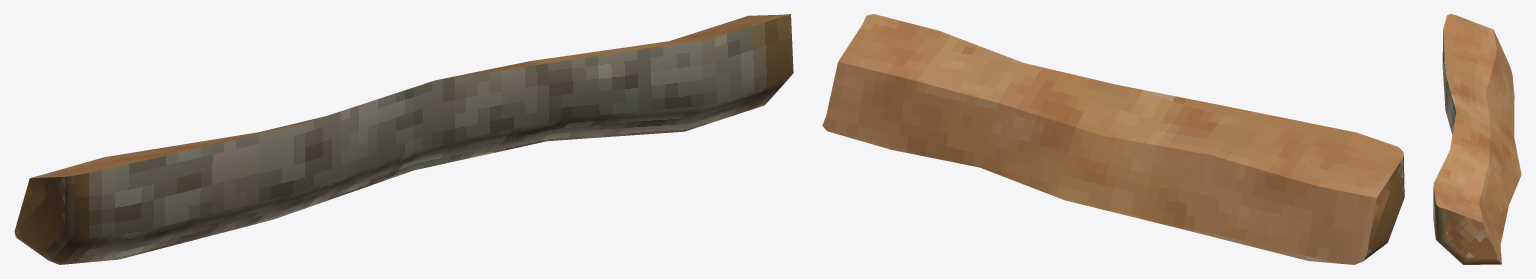
Rendered from woodsplit.fbx.
3 renders of one model, left to right at view 1: azimuth 30°, elevation 25°; view 2: azimuth 150°, elevation 25°; view 3: azimuth 270°, elevation 25°, orthographic. The views are drawn at different scales.
Visible parts, largest first — view 1: woodsplit; view 2: woodsplit; view 3: woodsplit.
Part boxes in pixels (x1,y1,x2,y2): woodsplit: (14, 14, 793, 264); woodsplit: (822, 14, 1404, 264); woodsplit: (1433, 14, 1521, 264).
Bounding box in the file's own units: 207 × 32.89 × 39.88.
